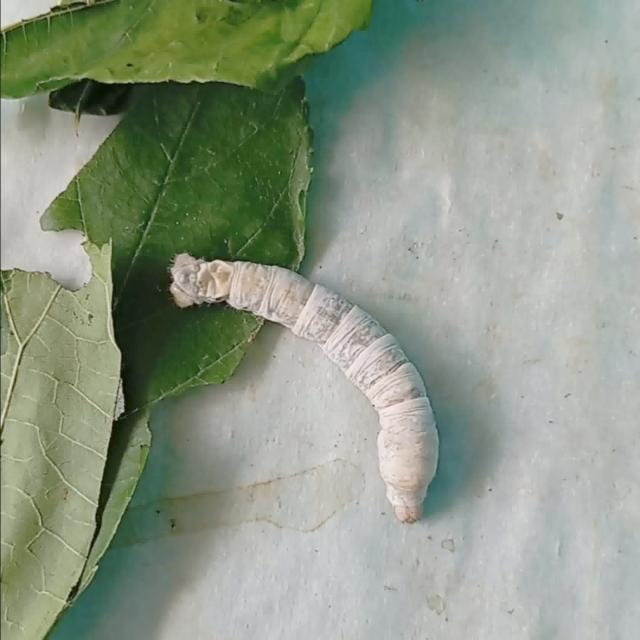Grasserie: (166, 237, 453, 527)
